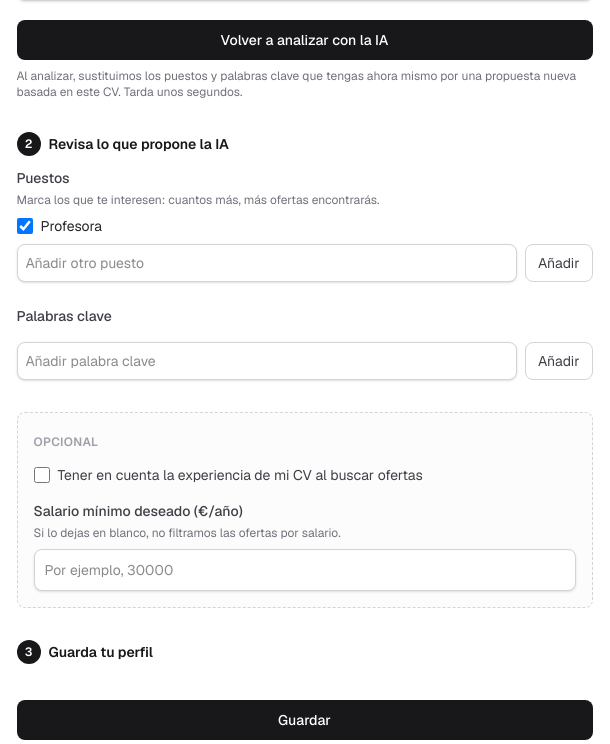
Test case: FormularioPerfil — B2: propuesta automática de puestos y palabras clave (T86/T88) › avisa (sin bloquear) si la palabra clave añadida a mano es demasiado larga
(page scrolled)
Type "gestión de equipos multidisciplinares en entorno internacional" into the field with placeholder "Añadir palabra clave". click: (267, 360)
box: top-left (16, 342), bottom-right (517, 380)
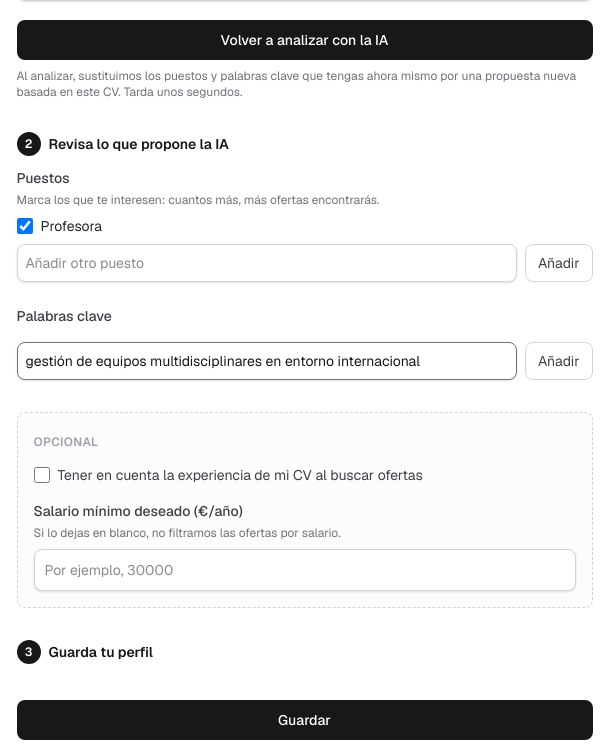
Click the button with aria-label "Añadir palabra clave". click: (559, 360)
box: top-left (525, 342), bottom-right (592, 380)
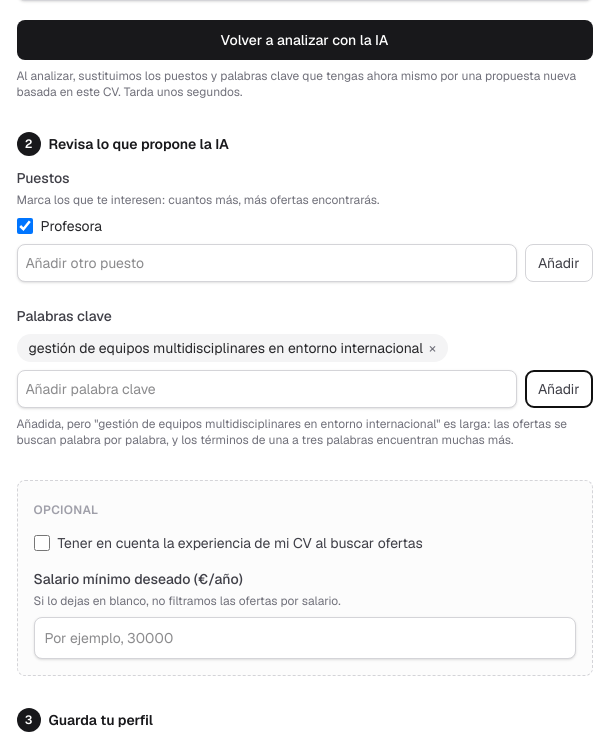
Expected: the text "gestión de equipos multidisciplinares en entorno internacional" is shown, top-left (28, 338), bottom-right (423, 356)
Expected: the text "es larga" is shown, top-left (16, 416), bottom-right (567, 448)
